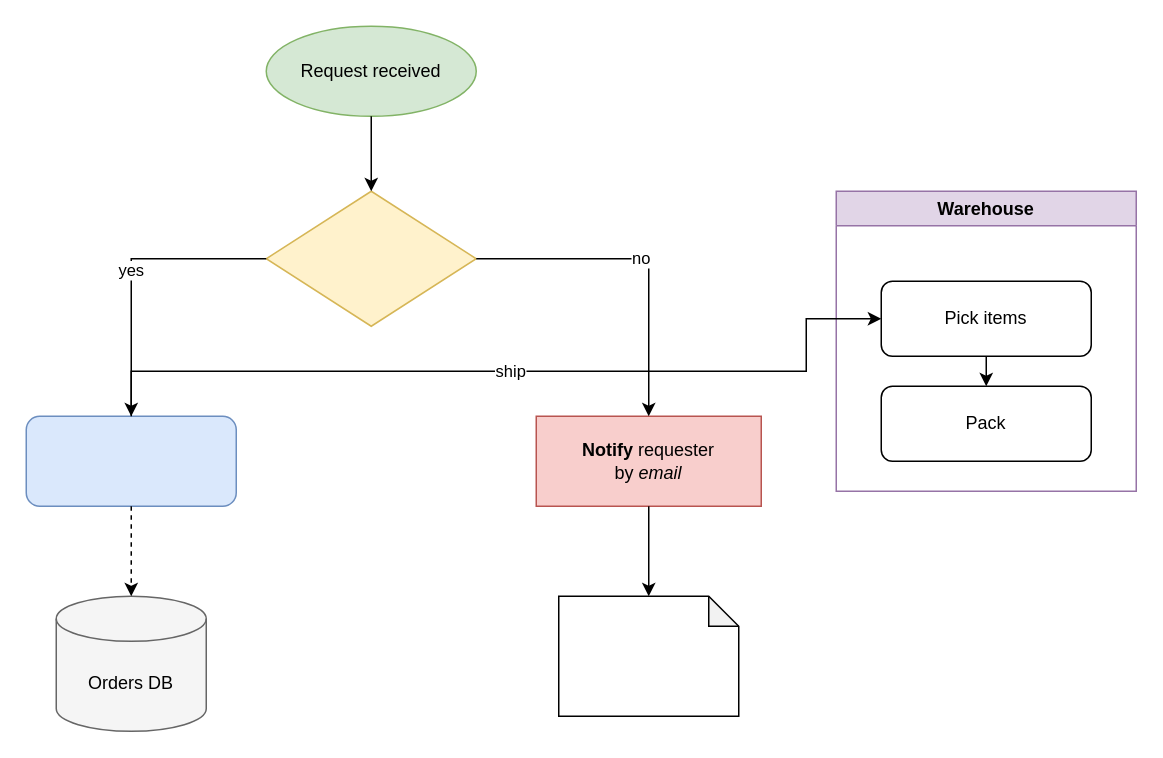
The diagram is 1163 pixels wide and 758 high, and some of its shapes have lost their labels. Here are the shapes that lost their labels. From the top down, the box of each, then its label:
(265, 190, 476, 326): Approved?
(25, 415, 236, 506): Fulfil order
(557, 595, 739, 716): Archive
